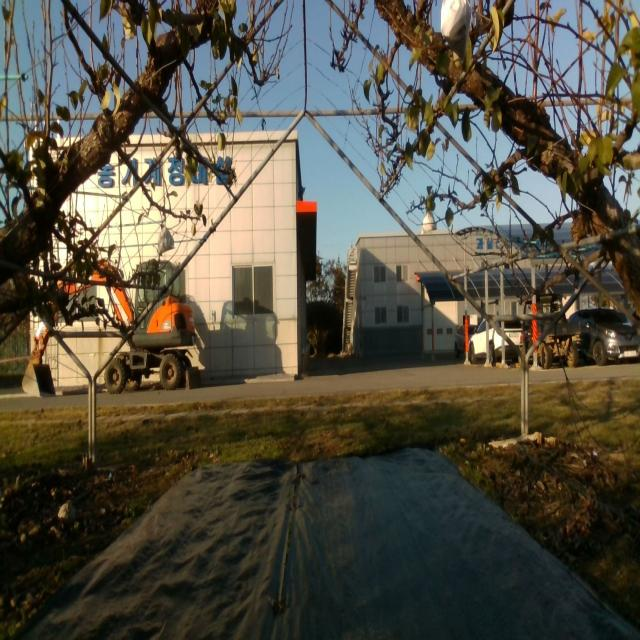pearbags: (439, 0, 472, 60), (158, 225, 176, 255), (420, 211, 437, 237)
